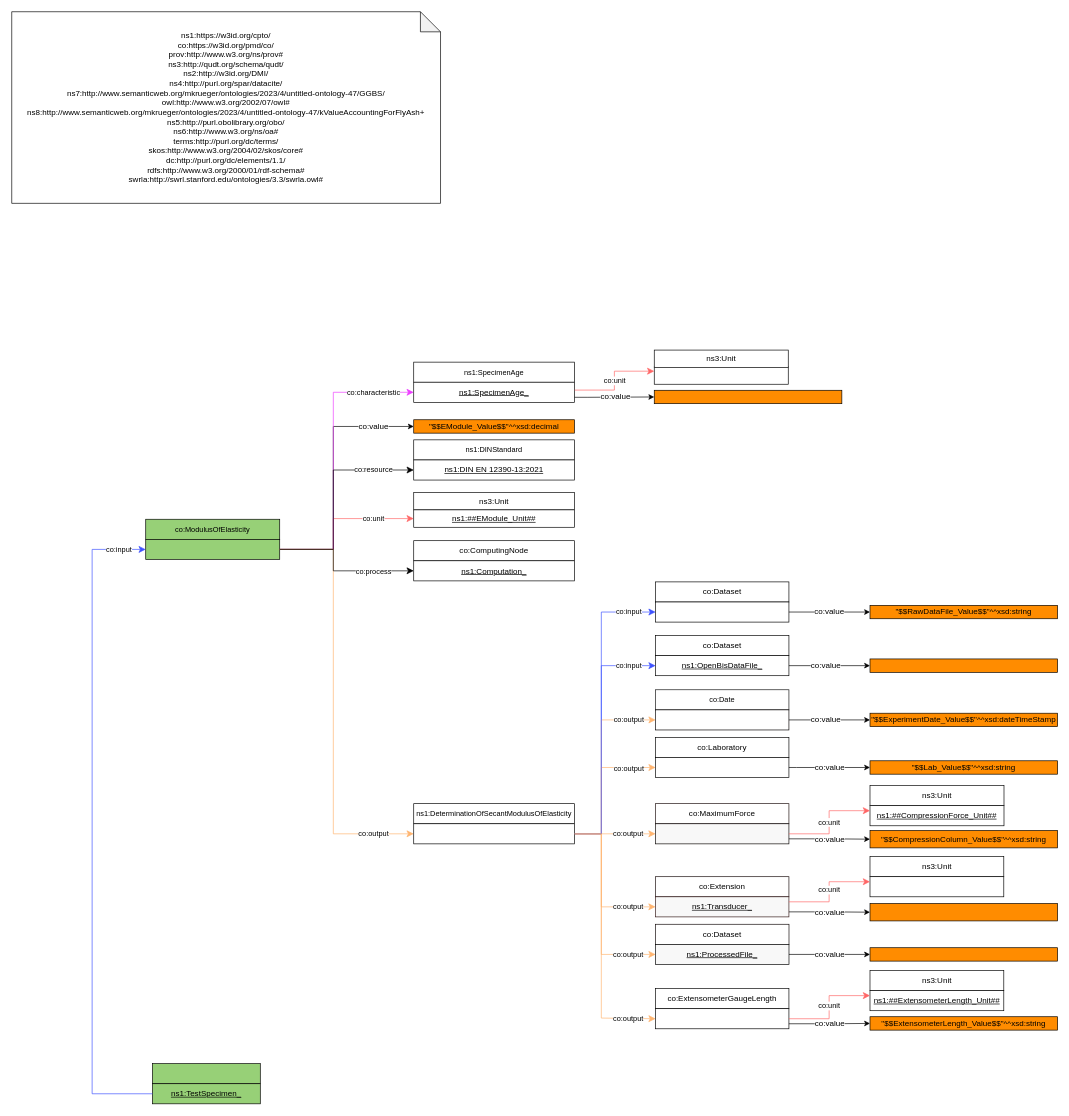
This 1069x1116 diagram has some shape labels left out. Each missing label, with the centre of its shape:
"$$OpenBisRawDataFile_Value$$"^^xsd:string: point 963,665
"$$ProcessedFile_Value$$"^^xsd:string: point 963,954
"$$SpecimenAge_Value$$"^^xsd:decimal: point 748,397
"$$TransducerColumn_Value$$"^^xsd:string: point 963,912
co:Specimen: point 206,1073
ns1: CompressionForce_: point 722,833
ns1: ExperimentDate_: point 722,719
ns1: ExperimentInfo_: point 494,833
ns1: Lab_: point 722,767
ns1:##Extensometer_Unit##: point 936,886
ns1:##SpecimenAge_Unit##: point 721,375
ns1:ExtensometerGaugeLength_: point 722,1018
ns1:RawDataFile_: point 722,611
ns1:SecantModulusOfElasticty_: point 212,549
